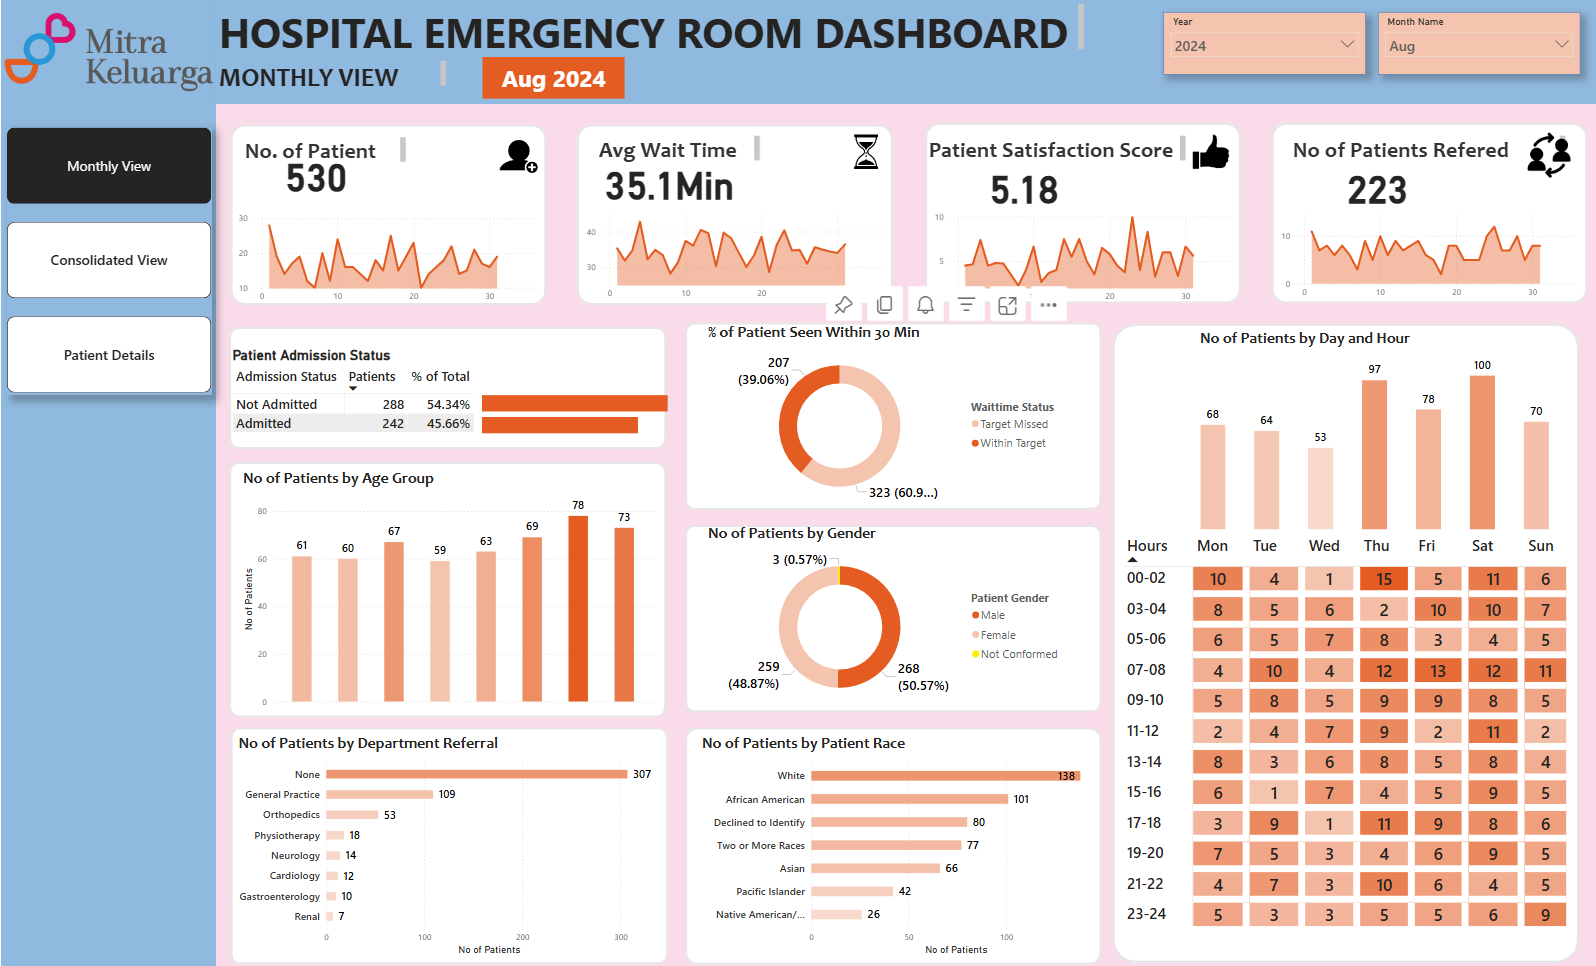

What the dashboard file says about the page in this screenshot:
{"tool":"powerbi","page":{"name":"Monthly View","canvas":[2300,1400],"ordinal":0},"visuals":[{"type":"shape","box":[0,0,310,1400],"z":0},{"type":"shape","box":[310,0,1990,150],"z":1000},{"type":"textbox","box":[310,0,1255.7,81.4],"z":2000},{"type":"textbox","box":[308.6,81.9,336.9,50.4],"z":3000},{"type":"slicer","fields":{"Values":["Date Table.Year"]},"box":[1675,16.2,291.2,90],"z":4000},{"type":"slicer","fields":{"Values":["Date Table.Month Name"]},"box":[1982.5,16.2,291.2,90],"z":5000},{"type":"shape","box":[330.5,178.7,455,260],"z":6000},{"type":"card","fields":{"Values":["Hospital ER_Data.No of Patients"]},"box":[224,150,456,200],"z":7000},{"type":"textbox","box":[345,192.5,242.5,47.5],"z":8000},{"type":"areaChart","fields":{"Category":["Date Table.Date.Variation.Date Hierarchy.Day"],"Y":["Hospital ER_Data.No of Patients"]},"box":[338,299.3,436,144],"z":9000},{"type":"shape","box":[830.3,178.7,455,260],"z":10000},{"type":"card","fields":{"Values":["Hospital ER_Data.Avg Wait Time"]},"box":[734,160,456,200],"z":11000},{"type":"textbox","box":[855,190,242.5,47.5],"z":12000},{"type":"areaChart","fields":{"Category":["Date Table.Date.Variation.Date Hierarchy.Day"],"Y":["Avg(Hospital ER_Data.Patient Waittime)"]},"box":[838.4,294.9,436,146],"z":13000},{"type":"shape","box":[1330.2,177.5,455,260],"z":14000},{"type":"card","fields":{"Values":["Hospital ER_Data.Satisfaction Score"]},"box":[1244,166,456,200],"z":15000},{"type":"shape","box":[1830,177.5,455,260],"z":16000},{"type":"textbox","box":[1330,190,380,47.5],"z":17000},{"type":"areaChart","fields":{"Category":["Date Table.Date.Variation.Date Hierarchy.Day"],"Y":["Hospital ER_Data.Satisfaction Score"]},"box":[1338.9,297.1,436,146],"z":18000},{"type":"card","fields":{"Values":["Hospital ER_Data.No of Patient Referred"]},"box":[1754,166,456,200],"z":19000},{"type":"textbox","box":[1855,190,402.5,47.5],"z":20000},{"type":"areaChart","fields":{"Category":["Date Table.Date.Variation.Date Hierarchy.Day"],"Y":["Hospital ER_Data.No of Patient Referred"]},"box":[1839.3,292,436.7,146.7],"z":21000},{"type":"shape","box":[328,470,630,176],"z":22000},{"type":"pivotTable","title":"Patient Admission Status","fields":{"Rows":["Hospital ER_Data.Admission Status"],"Values":["Hospital ER_Data.No of Patients1","Hospital ER_Data.No of Patients"]},"box":[327.5,500,611.2,146.2],"z":23000},{"type":"barChart","fields":{"Category":["Hospital ER_Data.Admission Status"],"Y":["Hospital ER_Data.No of Patients"]},"box":[688,540,289,106],"z":24000},{"type":"shape","box":[328.3,664.7,630,368],"z":25000},{"type":"clusteredColumnChart","fields":{"Category":["Hospital ER_Data.Age Group"],"Y":["Hospital ER_Data.No of Patients"]},"box":[343.8,673.8,601.2,350],"z":26000},{"type":"shape","box":[330,1047.5,630,341.2],"z":27000},{"type":"clusteredBarChart","fields":{"Category":["Hospital ER_Data.Department Referral"],"Y":["Hospital ER_Data.No of Patients"]},"box":[336,1056,616,324],"z":28000},{"type":"shape","box":[985,465,600,270],"z":29000},{"type":"donutChart","title":"% of Patient Seen Within 30 Min","fields":{"Category":["Hospital ER_Data.Waittime Status"],"Y":["Hospital ER_Data.No of Patients"]},"box":[1013.8,465,522.5,270],"z":30000},{"type":"shape","box":[985,756.7,600,270],"z":31000},{"type":"donutChart","title":"No of Patients by Gender","fields":{"Y":["Hospital ER_Data.No of Patients"],"Category":["Hospital ER_Data.Patient Gender"]},"box":[1012.5,753.8,523.8,270],"z":32000},{"type":"shape","box":[985,1048.3,600,341.7],"z":33000},{"type":"clusteredBarChart","fields":{"Y":["Hospital ER_Data.No of Patients"],"Category":["Hospital ER_Data.Patient Race"]},"box":[1003.8,1056.2,595,323.8],"z":34000},{"type":"shape","box":[1602,466,672,920],"z":35000},{"type":"pivotTable","fields":{"Rows":["Hospital ER_Data.Waittime Interval"],"Columns":["Date Table.Day Name"],"Values":["Hospital ER_Data.No of Patients"]},"box":[1611.2,765,655,606.2],"z":36000},{"type":"columnChart","title":"No of Patients by Day and Hour","fields":{"Category":["Date Table.Day Name"],"Y":["Hospital ER_Data.No of Patients"]},"box":[1721.2,472.5,515,295],"z":37000},{"type":"image","box":[0,0,310,150],"z":38000},{"type":"image","box":[712.5,187.5,65,75],"z":39000},{"type":"image","box":[1202.5,185,85,65],"z":40000},{"type":"image","box":[1710,177.5,65,87.5],"z":41000},{"type":"image","box":[2172.5,185,112.5,75],"z":42000},{"type":"card","fields":{"Values":["Min(Date Table.Month & Year)"]},"box":[692.7,81.9,204.7,59.8],"z":43000},{"type":"pageNavigator","box":[8.5,184,294.3,384.9],"z":44000}]}

Visuals, with their boxes in screenshot pixels (x1, y1, x2, y2), scaled from the page's 2300x1400 canvas onto the 1596x966 screenshot:
shape: locate(0, 0, 215, 965)
shape: locate(215, 0, 1595, 103)
textbox: locate(215, 0, 1086, 56)
textbox: locate(214, 57, 448, 91)
slicer - Date Table.Year: locate(1162, 11, 1364, 73)
slicer - Date Table.Month Name: locate(1376, 11, 1578, 73)
shape: locate(229, 123, 545, 303)
card - Hospital ER_Data.No of Patients: locate(155, 103, 472, 241)
textbox: locate(239, 133, 408, 166)
areaChart - Date Table.Date.Variation.Date Hierarchy.Day x Hospital ER_Data.No of Patients: locate(235, 207, 537, 306)
shape: locate(576, 123, 892, 303)
card - Hospital ER_Data.Avg Wait Time: locate(509, 110, 826, 248)
textbox: locate(593, 131, 762, 164)
areaChart - Date Table.Date.Variation.Date Hierarchy.Day x Avg(Hospital ER_Data.Patient Waittime): locate(582, 203, 884, 304)
shape: locate(923, 122, 1239, 302)
card - Hospital ER_Data.Satisfaction Score: locate(863, 115, 1180, 253)
shape: locate(1270, 122, 1586, 302)
textbox: locate(923, 131, 1187, 164)
areaChart - Date Table.Date.Variation.Date Hierarchy.Day x Hospital ER_Data.Satisfaction Score: locate(929, 205, 1232, 306)
card - Hospital ER_Data.No of Patient Referred: locate(1217, 115, 1534, 253)
textbox: locate(1287, 131, 1567, 164)
areaChart - Date Table.Date.Variation.Date Hierarchy.Day x Hospital ER_Data.No of Patient Referred: locate(1276, 201, 1579, 303)
shape: locate(228, 324, 665, 446)
"Patient Admission Status" pivotTable: locate(227, 345, 651, 446)
barChart - Hospital ER_Data.Admission Status x Hospital ER_Data.No of Patients: locate(477, 373, 678, 446)
shape: locate(228, 459, 665, 713)
clusteredColumnChart - Hospital ER_Data.Age Group x Hospital ER_Data.No of Patients: locate(239, 465, 656, 706)
shape: locate(229, 723, 666, 958)
clusteredBarChart - Hospital ER_Data.Department Referral x Hospital ER_Data.No of Patients: locate(233, 729, 661, 952)
shape: locate(684, 321, 1100, 507)
"% of Patient Seen Within 30 Min" donutChart: locate(703, 321, 1066, 507)
shape: locate(684, 522, 1100, 708)
"No of Patients by Gender" donutChart: locate(703, 520, 1066, 706)
shape: locate(684, 723, 1100, 959)
clusteredBarChart - Hospital ER_Data.No of Patients x Hospital ER_Data.Patient Race: locate(697, 729, 1109, 952)
shape: locate(1112, 322, 1578, 956)
pivotTable - Hospital ER_Data.Waittime Interval x Date Table.Day Name: locate(1118, 528, 1573, 946)
"No of Patients by Day and Hour" columnChart: locate(1194, 326, 1552, 530)
image: locate(0, 0, 215, 103)
image: locate(494, 129, 540, 181)
image: locate(834, 128, 893, 172)
image: locate(1187, 122, 1232, 183)
image: locate(1508, 128, 1586, 179)
card - Min(Date Table.Month & Year): locate(481, 57, 623, 98)
pageNavigator: locate(6, 127, 210, 393)
